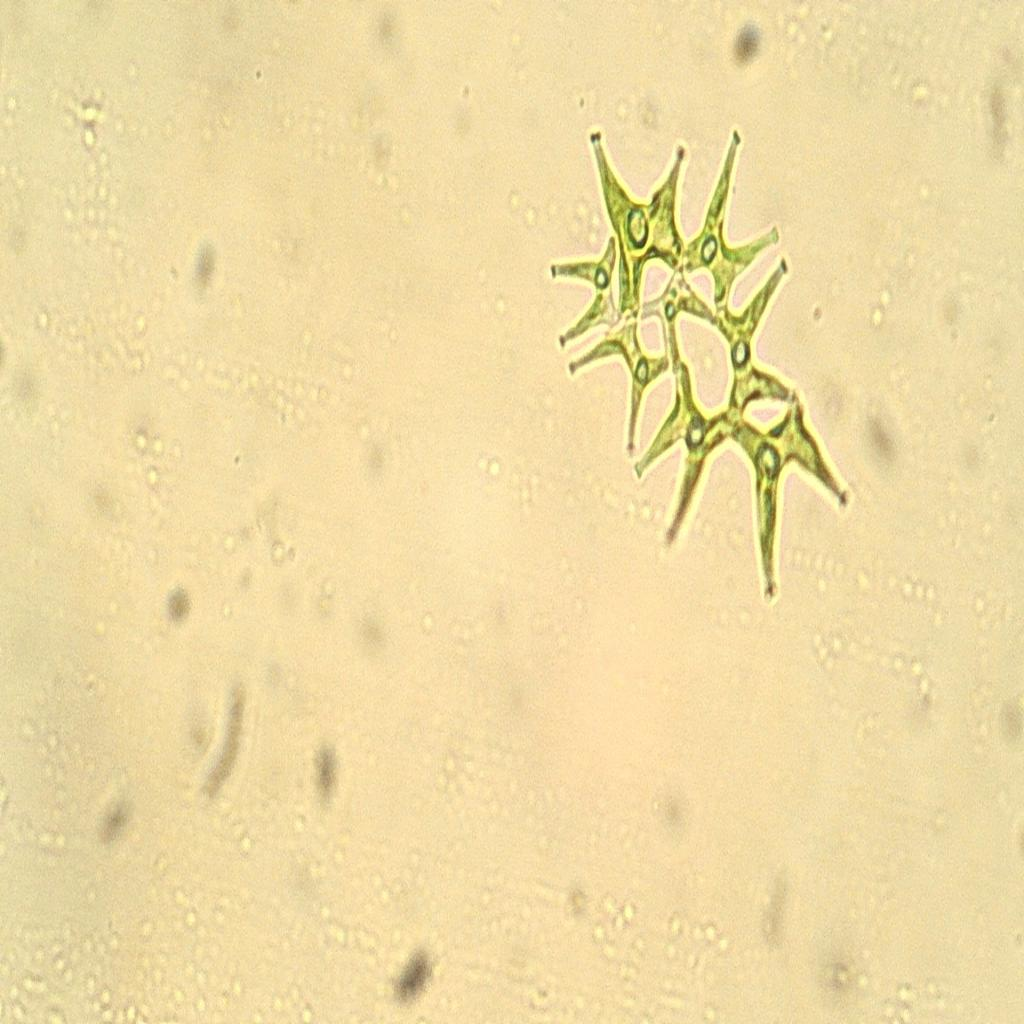Pediastrum_CFI: (532, 106, 868, 613)
